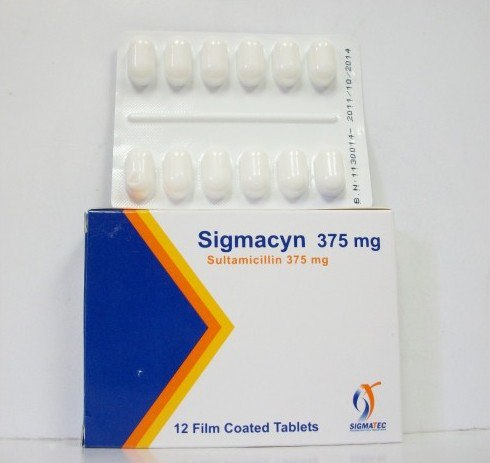Medicine: (75, 203, 414, 454)
